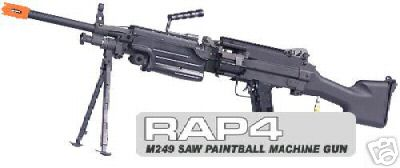rifle: (3, 4, 394, 130)
